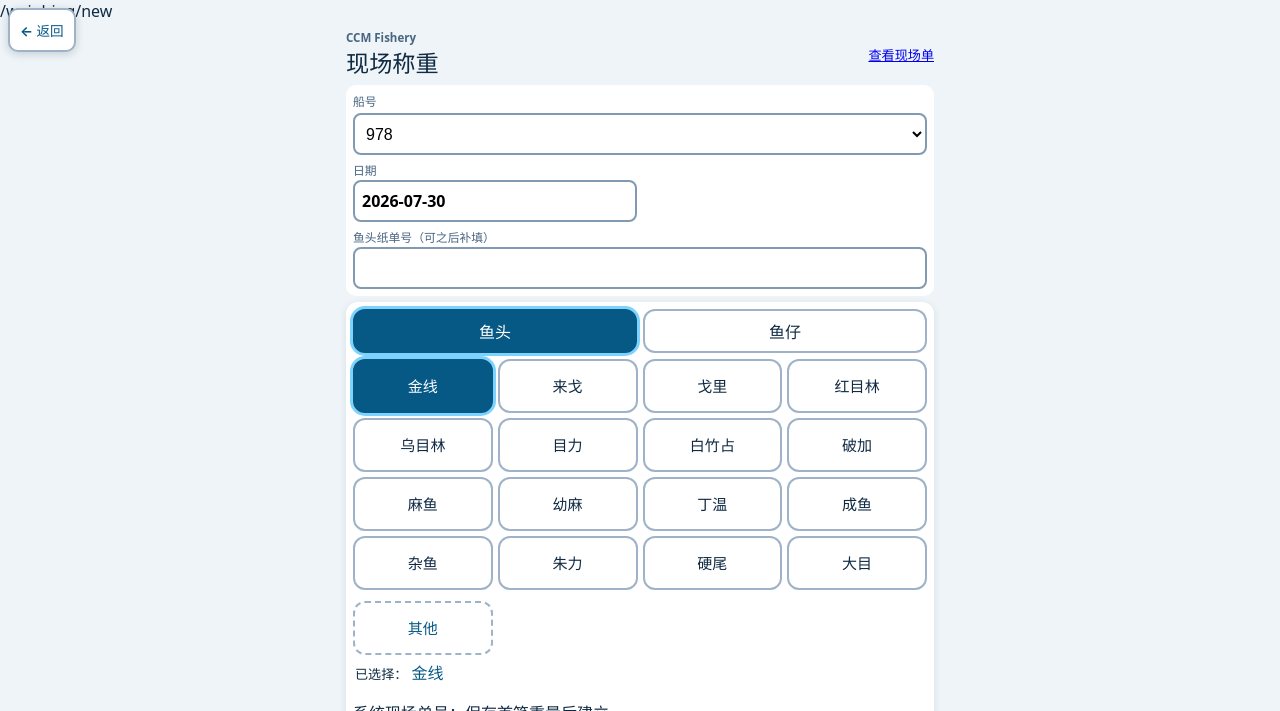
iPhone 现场称重单页 › 保存已去除首尾空格的鱼头纸单号后不会继续提示未保存
Type " FH-001 " into the field labelled "鱼头纸单号". click: (640, 268)
box: [353, 247, 927, 289]
(page scrolled)
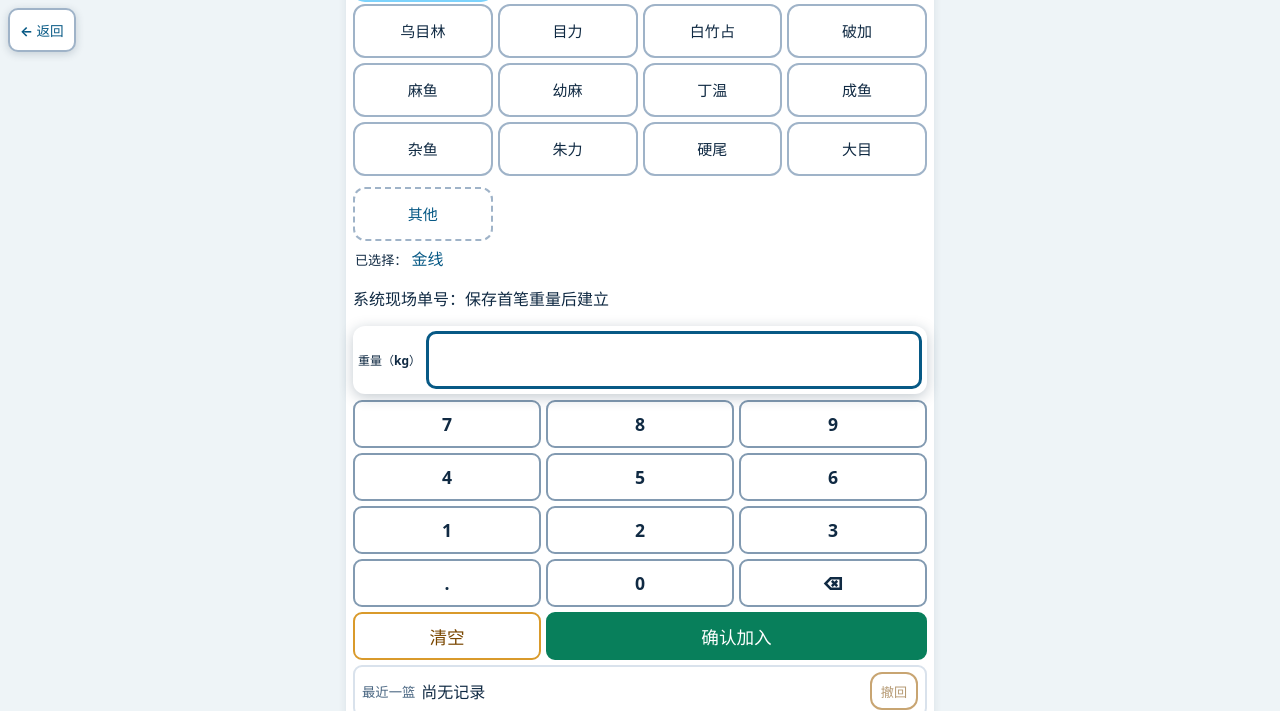
Type "80" into the field labelled "重量（kg）". click: (674, 360)
box: [426, 331, 922, 389]
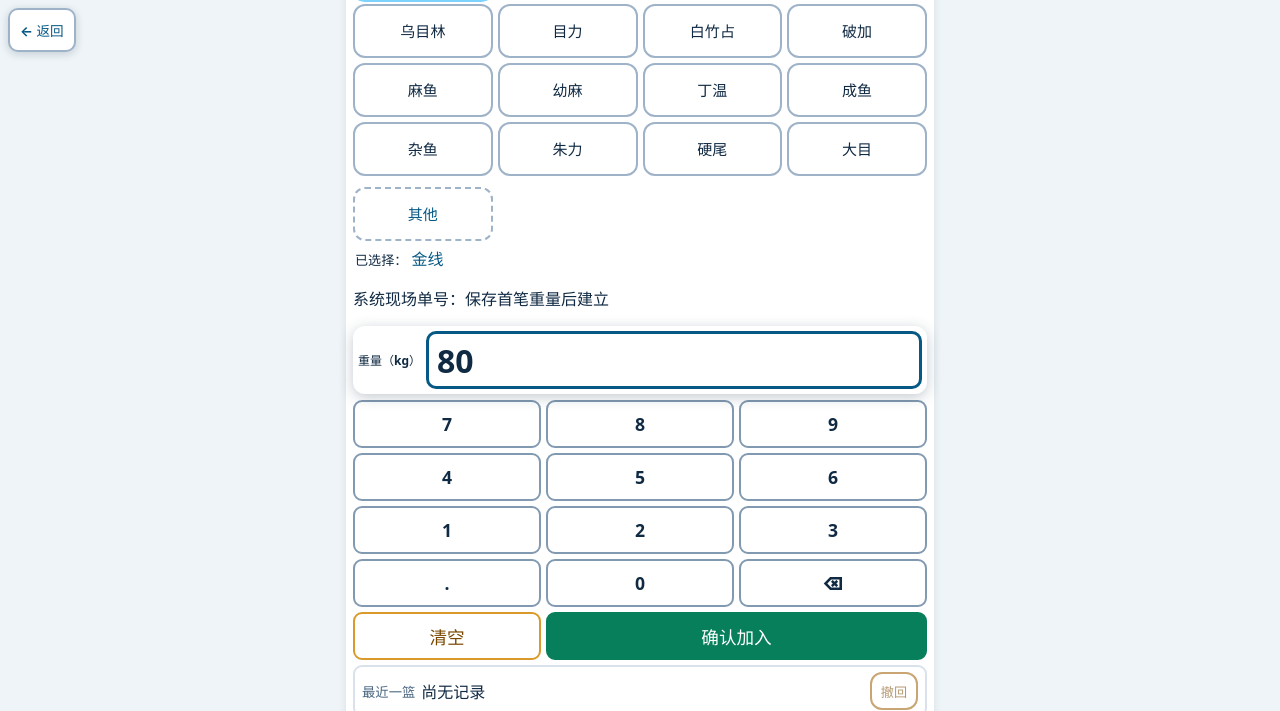
Click the button "确认加入". click: (736, 636)
box: [546, 612, 927, 660]
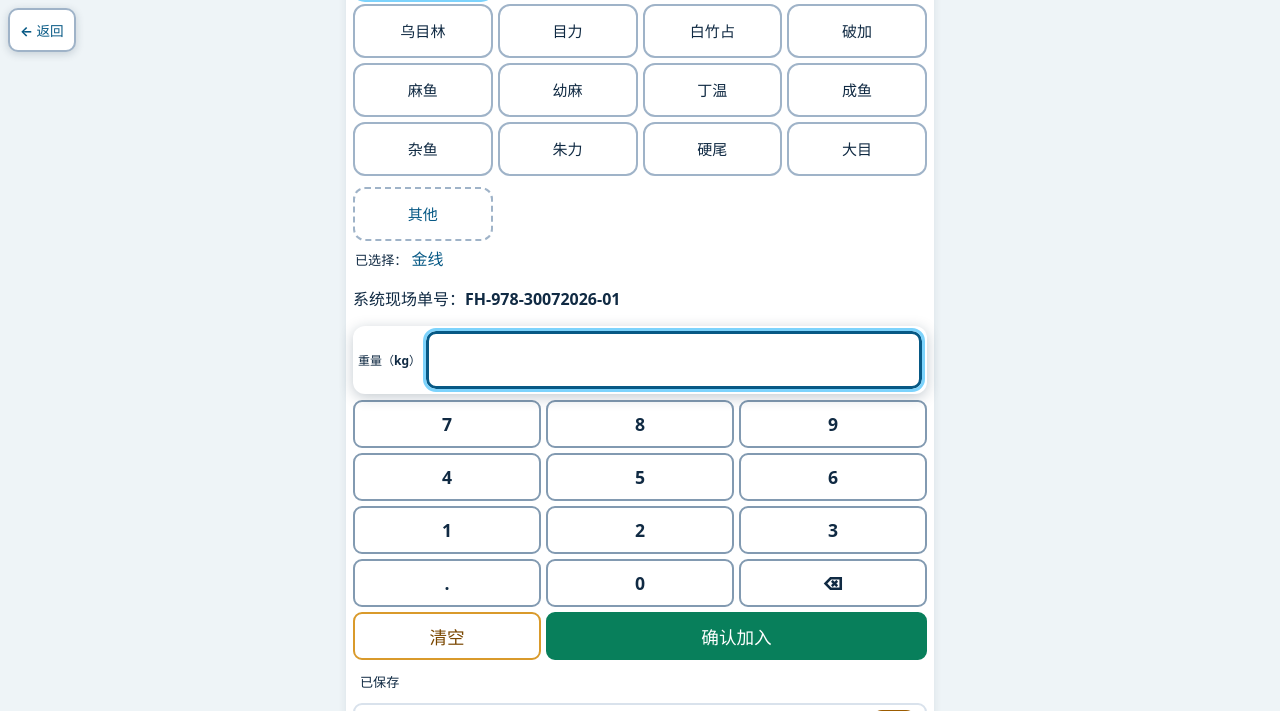
Result: the text "已保存" is shown at [360, 673, 399, 691]
